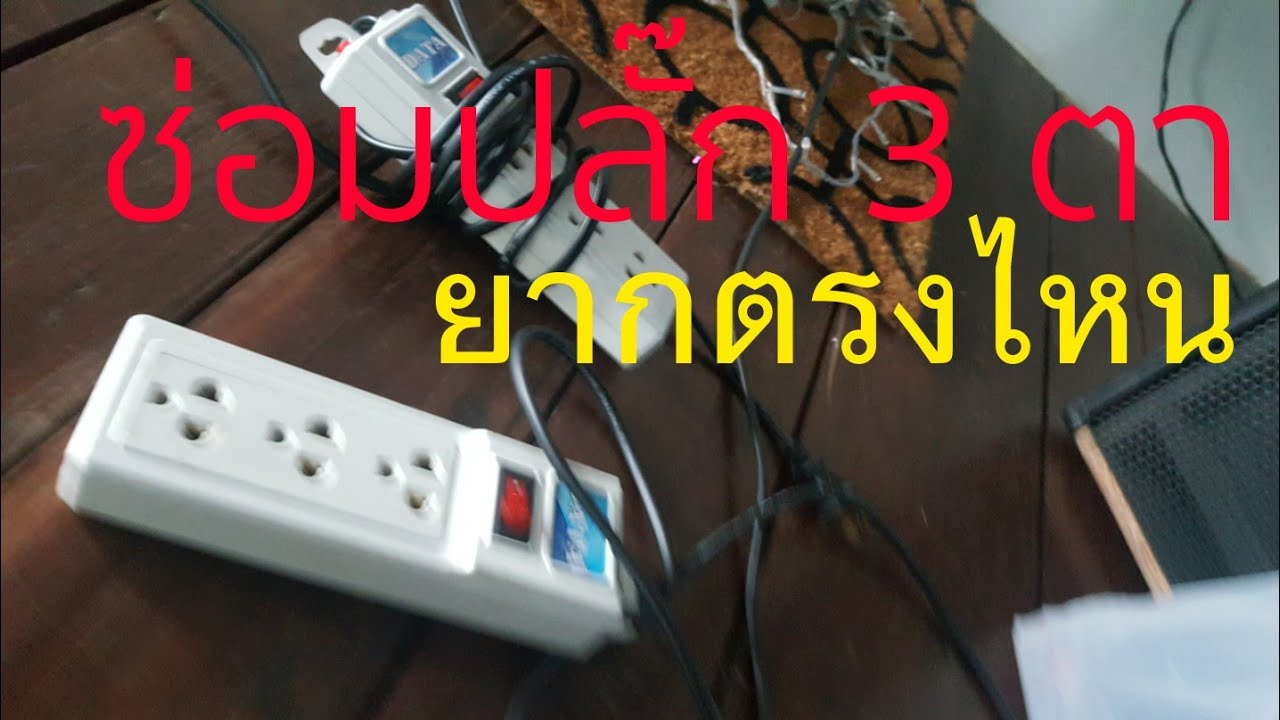Three_eye_plug: (51, 308, 644, 676), (293, 4, 700, 363)
